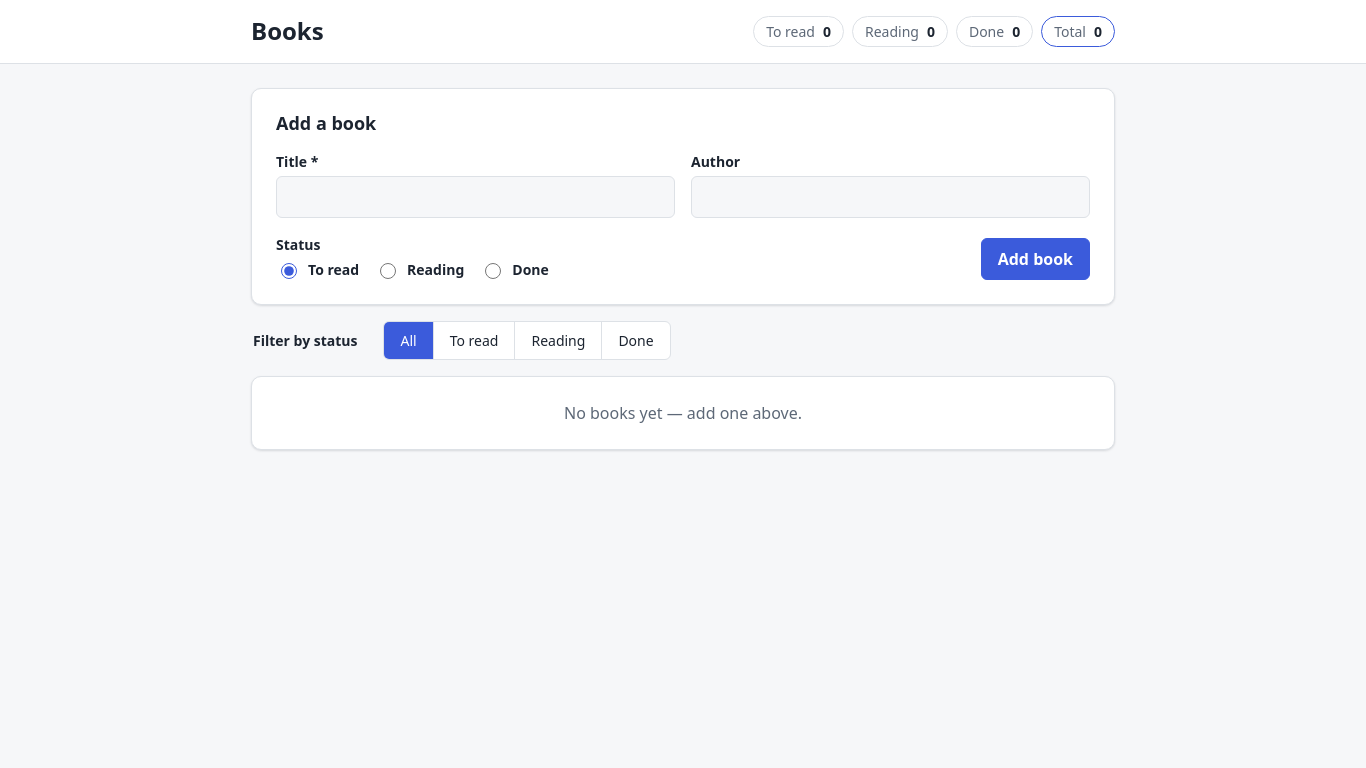
Test: AddBookForm › sends the chosen status
The image size is (1366, 768).
In the field labelled "Title *": (476, 197) x1=276 y1=176 x2=675 y2=218, type "Neuromancer"
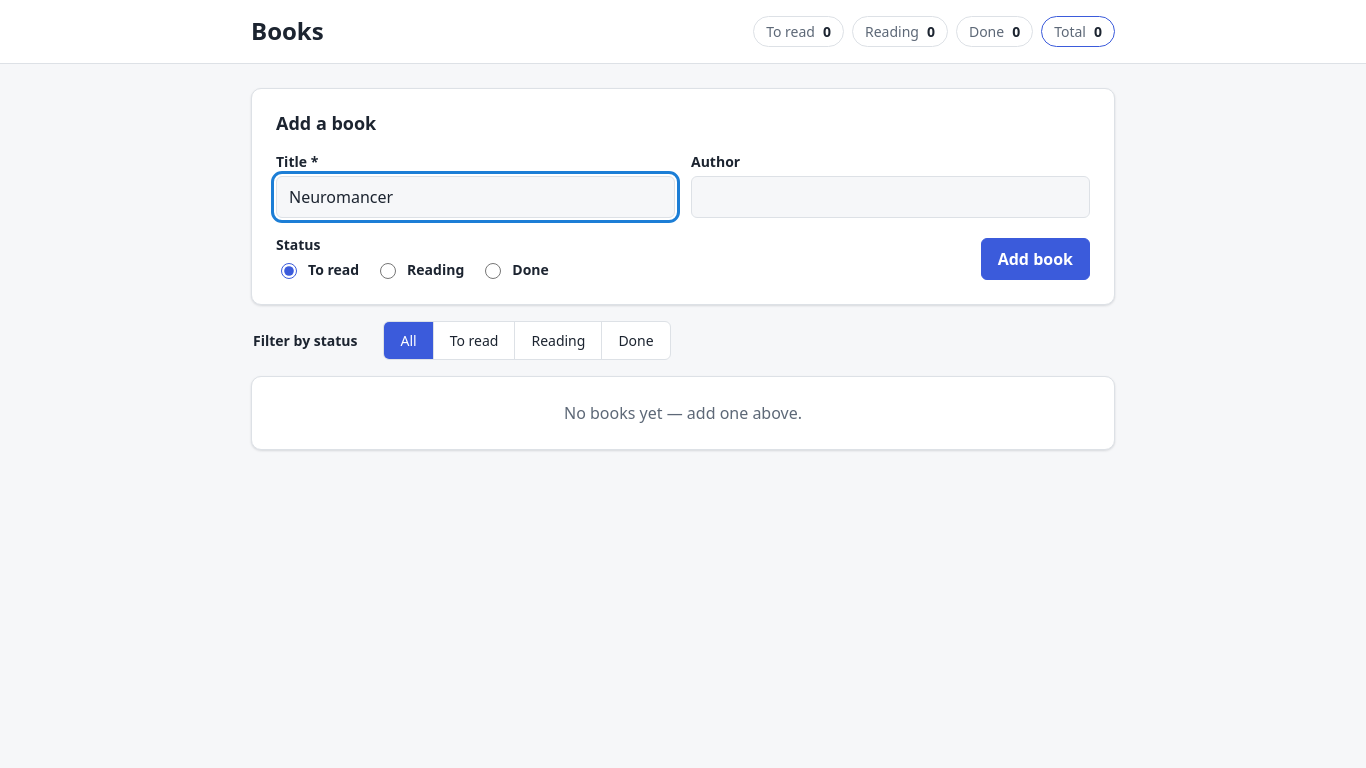
Click the radio button labelled "Reading" below "Title": (388, 271) x1=380 y1=263 x2=396 y2=279
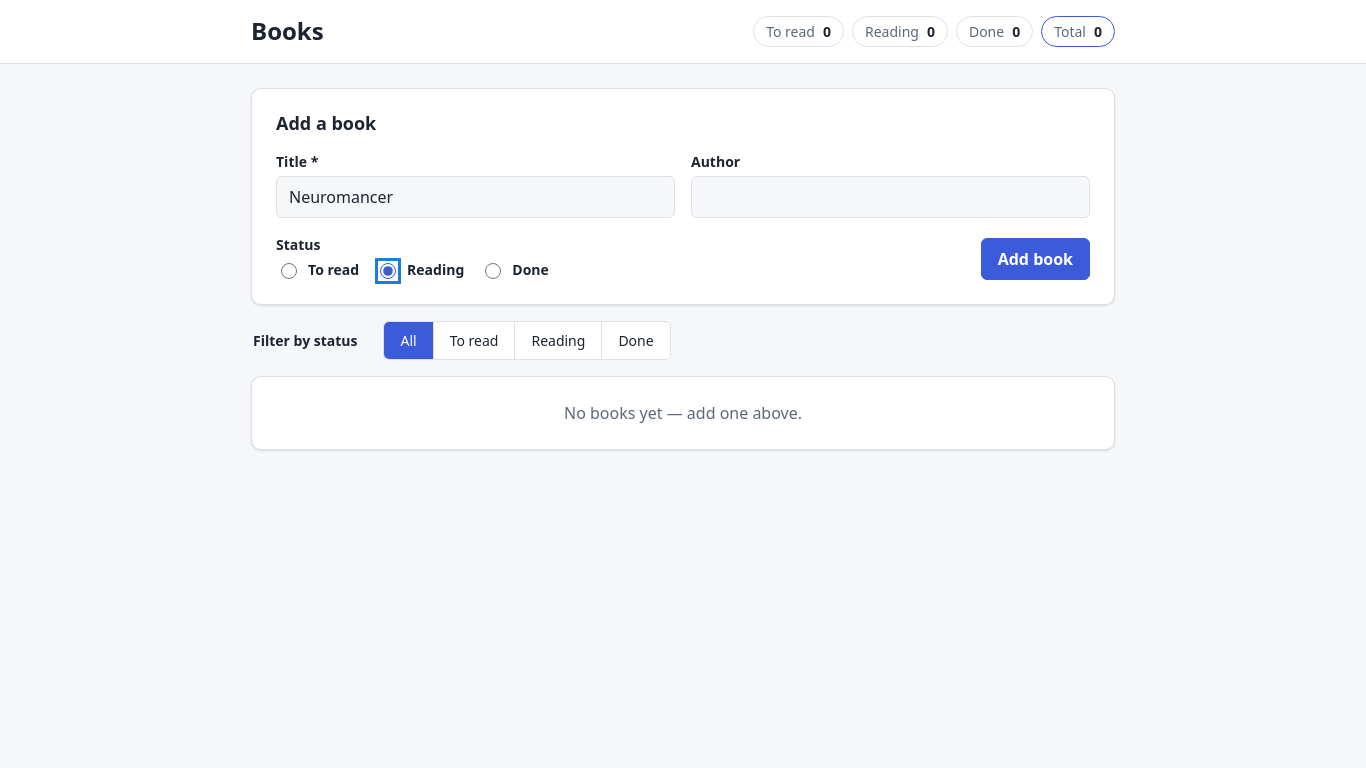
Click the button "Add book": (1035, 259) x1=981 y1=238 x2=1090 y2=280
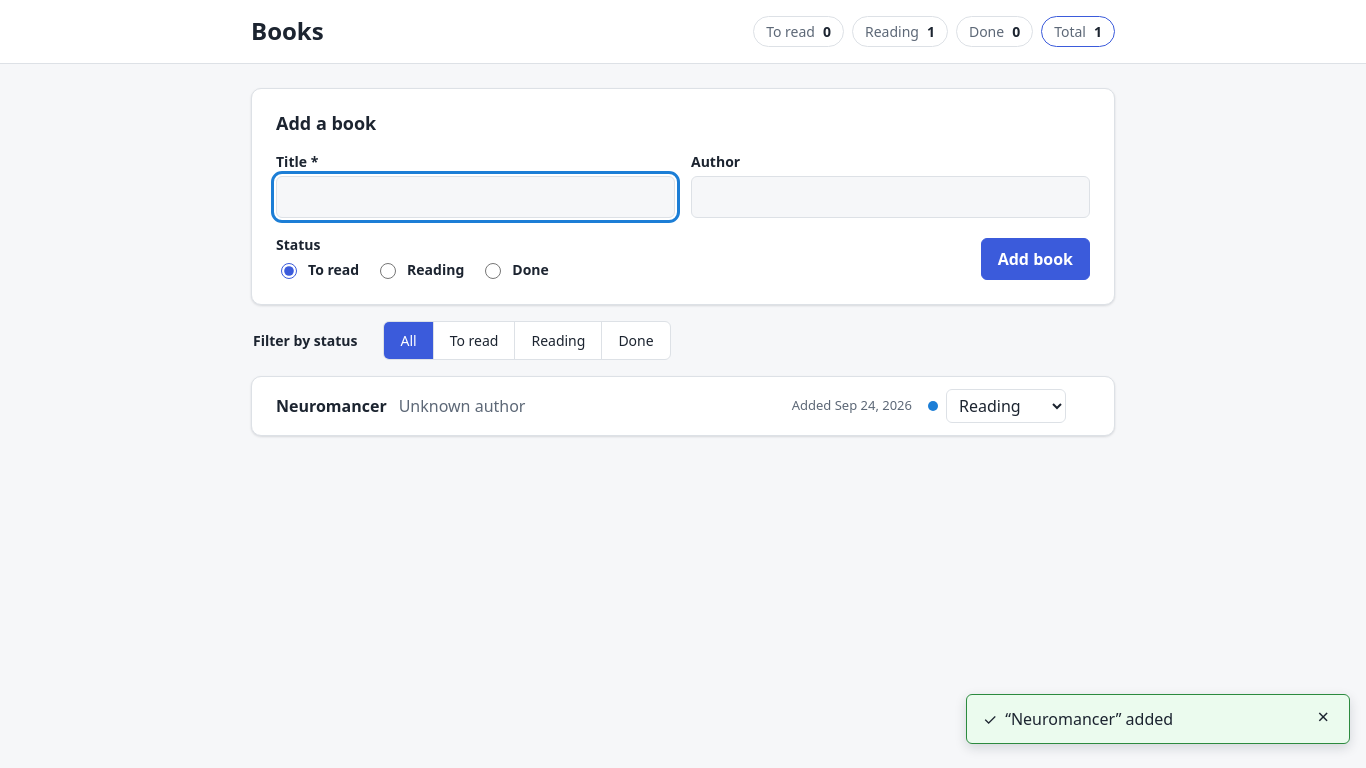
Expected: the text "“Neuromancer” added" is shown, x1=1005 y1=708 x2=1173 y2=730
